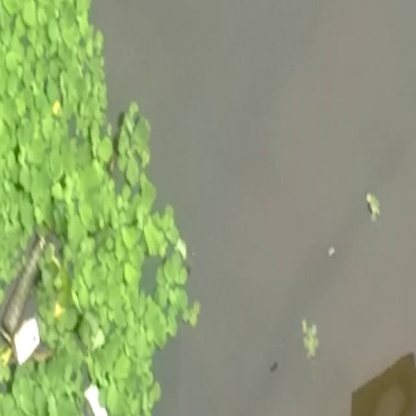grass: (67, 117, 207, 407)
